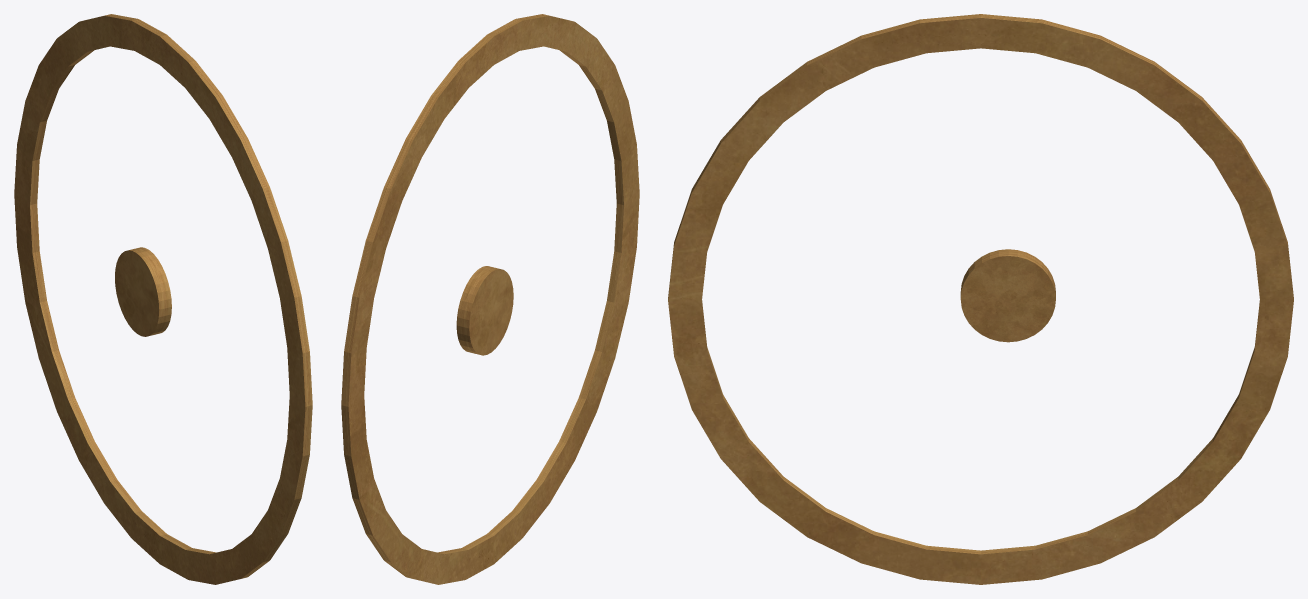
The model's file is MarsStructure.fbx.
3 renders of one model, left to right at view 1: azimuth 30°, elevation 25°; view 2: azimuth 150°, elevation 25°; view 3: azimuth 270°, elevation 25°, orthographic. The views are drawn at different scales.
Visible parts, largest first — view 1: MarsContour, MarsCentre; view 2: MarsContour, MarsCentre; view 3: MarsContour, MarsCentre.
Part boxes in pixels (box(x1,y1,x2,y2)): MarsContour: box(14, 14, 312, 584); MarsCentre: box(115, 247, 171, 336); MarsContour: box(341, 14, 639, 584); MarsCentre: box(456, 266, 513, 355); MarsContour: box(668, 14, 1293, 584); MarsCentre: box(960, 249, 1055, 342).
Bounding box in the file's own units: 19.07 × 553 × 553.
2 materials, 2 textured.
